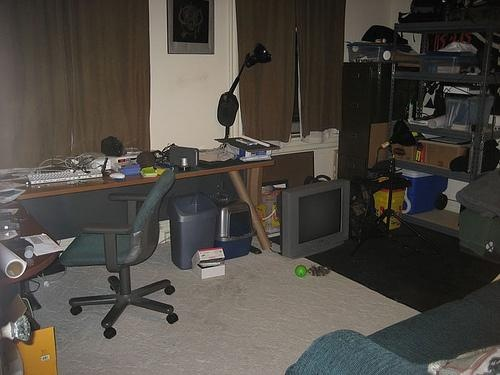chair: (61, 167, 178, 335)
sofa: (291, 275, 500, 375)
tvmonitor: (282, 176, 351, 255)
